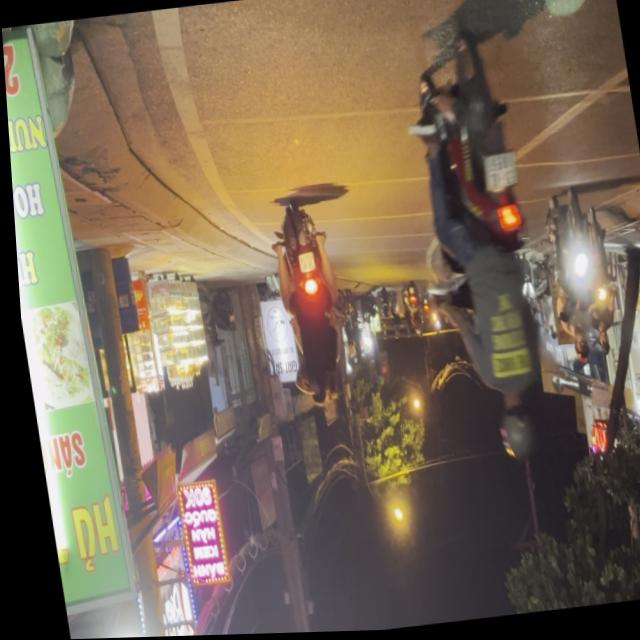helmet: (489, 389, 532, 463)
licenseplate: (389, 0, 563, 474), (260, 199, 352, 429)
motorcyclist: (299, 366, 325, 407)
nohelmet: (478, 154, 517, 194), (292, 252, 311, 273)
